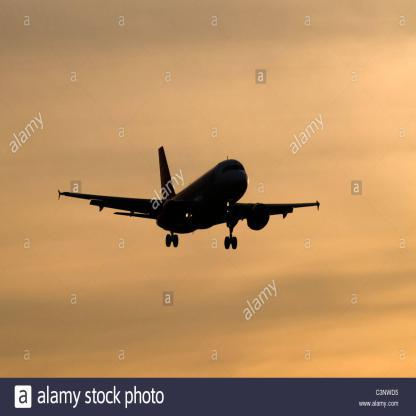CIV_Plane: (56, 143, 322, 256)
